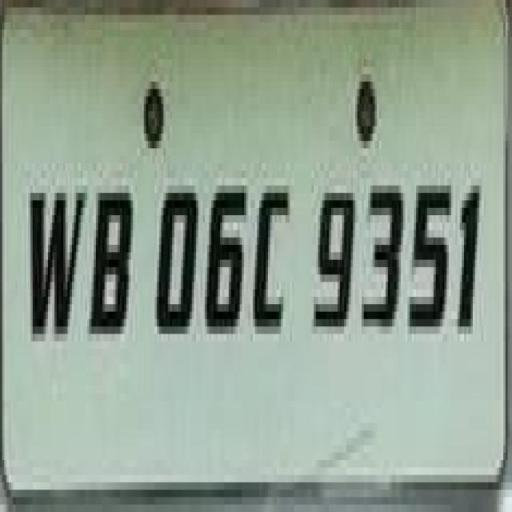number plate: (2, 0, 486, 482)
